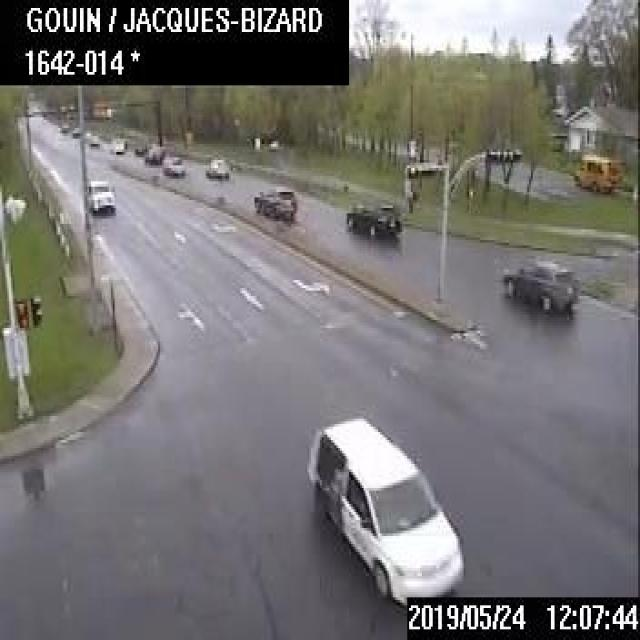bus: (571, 153, 624, 192)
vehicle: (305, 416, 464, 606), (501, 258, 576, 313), (344, 201, 401, 236), (253, 186, 296, 217), (86, 178, 114, 212), (203, 156, 228, 178), (160, 154, 184, 175), (143, 146, 162, 163), (106, 137, 123, 151), (132, 144, 144, 154), (87, 136, 99, 146), (56, 122, 68, 131), (70, 125, 78, 136)
